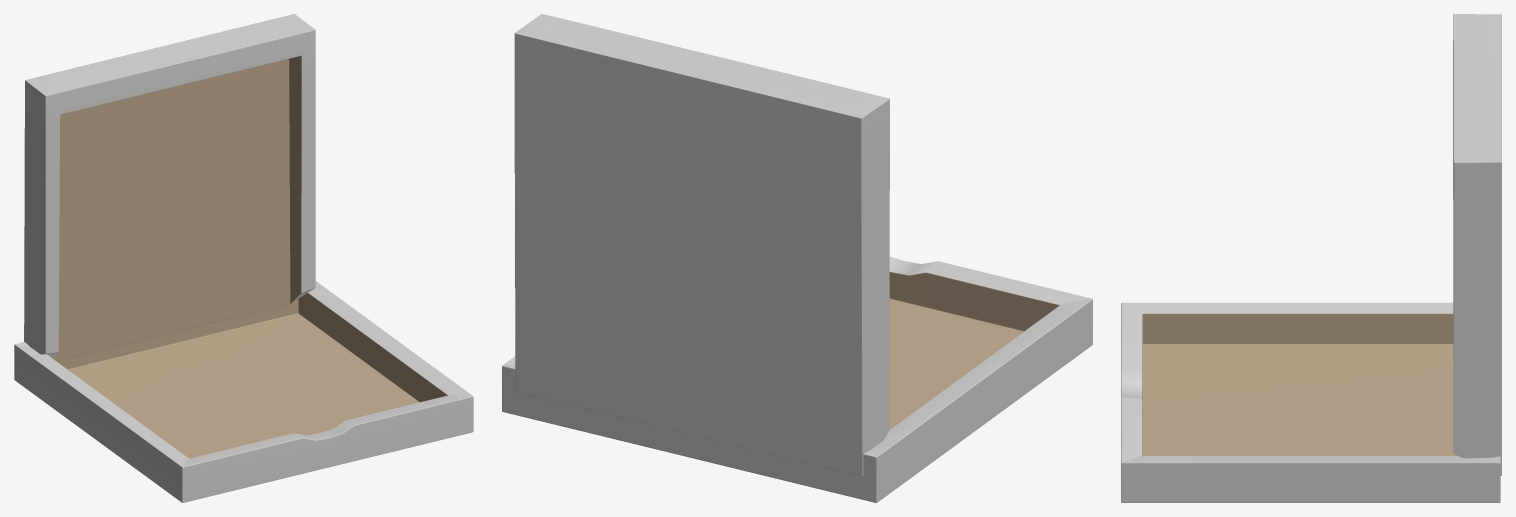
File: PizzaBox 1.fbx
3 views of the same model, side by side, from view 1: azimuth 30°, elevation 25°; view 2: azimuth 150°, elevation 25°; view 3: azimuth 270°, elevation 25° (orthographic). The views are drawn at different scales.
Visible parts, largest first — view 1: PB_PizzaBoxOpenLid, PB_PizzaBoxOpenBase; view 2: PB_PizzaBoxOpenLid, PB_PizzaBoxOpenBase; view 3: PB_PizzaBoxOpenBase, PB_PizzaBoxOpenLid.
Part boxes in pixels (x1,y1,x2,y2): PB_PizzaBoxOpenLid: (24, 14, 315, 360); PB_PizzaBoxOpenBase: (14, 281, 473, 502); PB_PizzaBoxOpenLid: (514, 14, 889, 476); PB_PizzaBoxOpenBase: (502, 256, 1092, 502); PB_PizzaBoxOpenBase: (1121, 302, 1500, 502); PB_PizzaBoxOpenLid: (1453, 14, 1501, 475).
Bounding box in the file's own units: 1.13 × 1.1 × 1.13.
